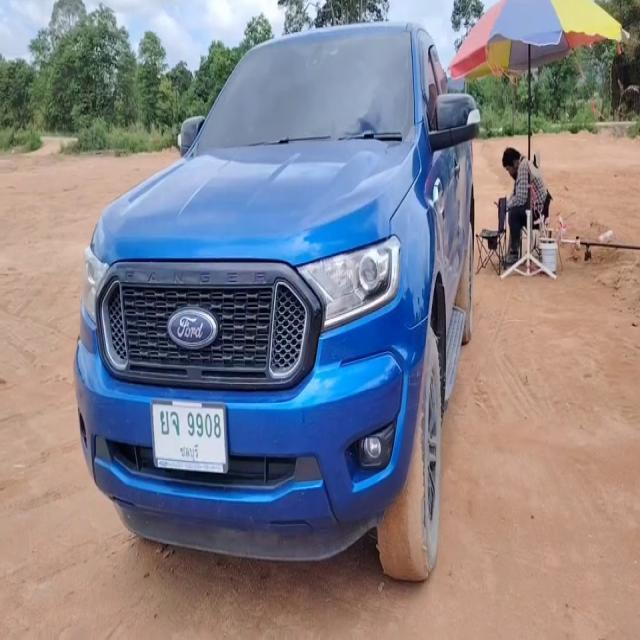Digit: (185, 411, 223, 438)
Licenseplate: (151, 401, 229, 473)
Provincename: (179, 442, 201, 461)
Thaichar: (159, 410, 180, 434)
